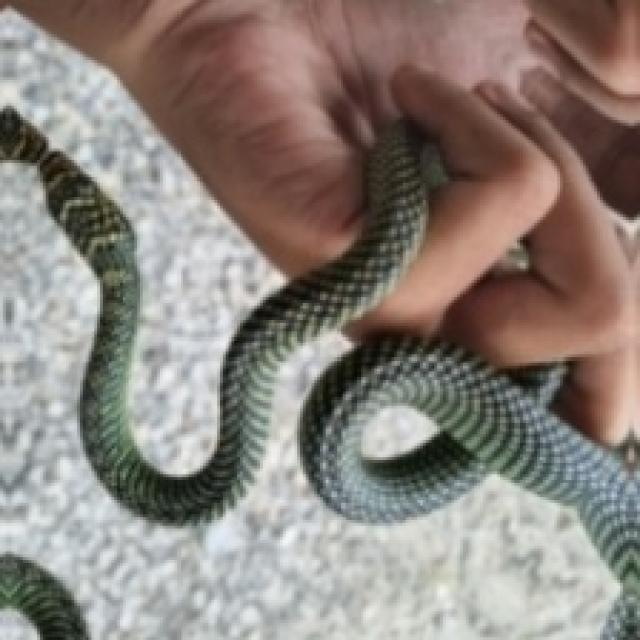paradise tree snake: (0, 109, 446, 523), (300, 337, 637, 637), (0, 554, 86, 637)
